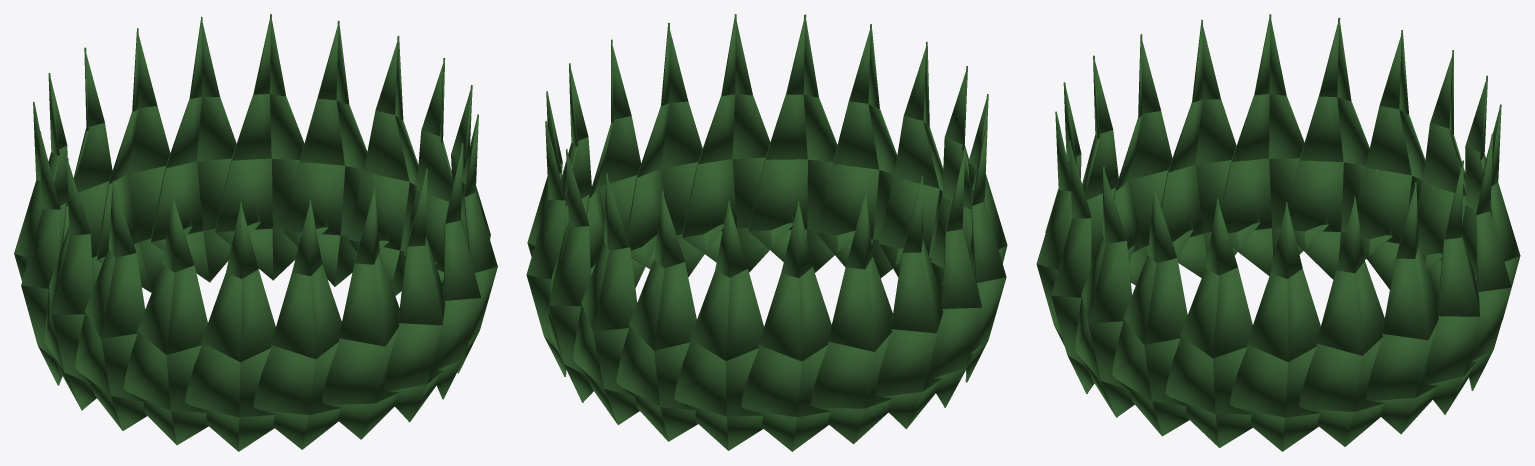
3 views of the same model, side by side, from view 1: azimuth 30°, elevation 25°; view 2: azimuth 150°, elevation 25°; view 3: azimuth 270°, elevation 25° (orthographic).
Visible parts, largest first — view 1: Flower_031_Base_Material_0_026, Flower_031_Base_Material_0_030, Flower_031_Base_Material_0_024, Flower_031_Base_Material_0_027, Flower_031_Base_Material_0_031, Flower_031_Base_Material_0_039, Flower_031_Base_Material_0_025, Flower_031_Base_Material_0_022, Flower_031_Base_Material_0_029, Flower_031_Base_Material_0_038, Flower_031_Base_Material_0_035, Flower_031_Base_Material_0_023 (+8 smaller); view 2: Flower_031_Base_Material_0_037, Flower_031_Base_Material_0_036, Flower_031_Base_Material_0_035, Flower_031_Base_Material_0_034, Flower_031_Base_Material_0_001, Flower_031_Base_Material_0_038, Flower_031_Base_Material_0_025, Flower_031_Base_Material_0_032, Flower_031_Base_Material_0_021, Flower_031_Base_Material_0_039, Flower_031_Base_Material_0_024, Flower_031_Base_Material_0_023 (+8 smaller); view 3: Flower_031_Base_Material_0_028, Flower_031_Base_Material_0_033, Flower_031_Base_Material_0_023, Flower_031_Base_Material_0_029, Flower_031_Base_Material_0_021, Flower_031_Base_Material_0_032, Flower_031_Base_Material_0_022, Flower_031_Base_Material_0_031, Flower_031_Base_Material_0_001, Flower_031_Base_Material_0_034, Flower_031_Base_Material_0_030, Flower_031_Base_Material_0_027 (+8 smaller).
Boxes of the visible parts, x1,y1,x2,y2 form: Flower_031_Base_Material_0_026: (185,202,275,451); Flower_031_Base_Material_0_030: (214,14,328,280); Flower_031_Base_Material_0_024: (253,199,341,449); Flower_031_Base_Material_0_027: (123,195,208,445); Flower_031_Base_Material_0_031: (282,20,389,286); Flower_031_Base_Material_0_039: (150,16,260,282); Flower_031_Base_Material_0_025: (322,188,399,439); Flower_031_Base_Material_0_022: (75,180,146,430); Flower_031_Base_Material_0_029: (348,35,437,295); Flower_031_Base_Material_0_038: (96,28,192,292); Flower_031_Base_Material_0_035: (384,168,445,422); Flower_031_Base_Material_0_023: (44,158,96,410); Flower_031_Base_Material_0_037: (741,201,831,451); Flower_031_Base_Material_0_036: (674,200,763,450); Flower_031_Base_Material_0_035: (748,14,858,272); Flower_031_Base_Material_0_034: (681,14,793,272); Flower_031_Base_Material_0_001: (810,192,892,444); Flower_031_Base_Material_0_038: (616,191,697,441); Flower_031_Base_Material_0_025: (816,24,906,278); Flower_031_Base_Material_0_032: (626,23,724,276); Flower_031_Base_Material_0_021: (876,175,943,429); Flower_031_Base_Material_0_039: (573,173,639,424); Flower_031_Base_Material_0_024: (879,41,952,285); Flower_031_Base_Material_0_023: (930,151,982,407); Flower_031_Base_Material_0_028: (1230,202,1320,451); Flower_031_Base_Material_0_033: (1165,198,1252,447); Flower_031_Base_Material_0_023: (1220,14,1329,275); Flower_031_Base_Material_0_029: (1299,196,1384,446); Flower_031_Base_Material_0_021: (1288,17,1392,279); Flower_031_Base_Material_0_032: (1112,186,1189,436); Flower_031_Base_Material_0_022: (1161,19,1260,277); Flower_031_Base_Material_0_031: (1366,182,1438,434); Flower_031_Base_Material_0_001: (1356,30,1443,289); Flower_031_Base_Material_0_034: (1075,166,1134,417); Flower_031_Base_Material_0_030: (1424,160,1479,414); Flower_031_Base_Material_0_027: (1114,34,1193,285).
Size of the model in its own units: 0.1863 by 0.1095 by 0.1863.
20 materials, 20 textured.
